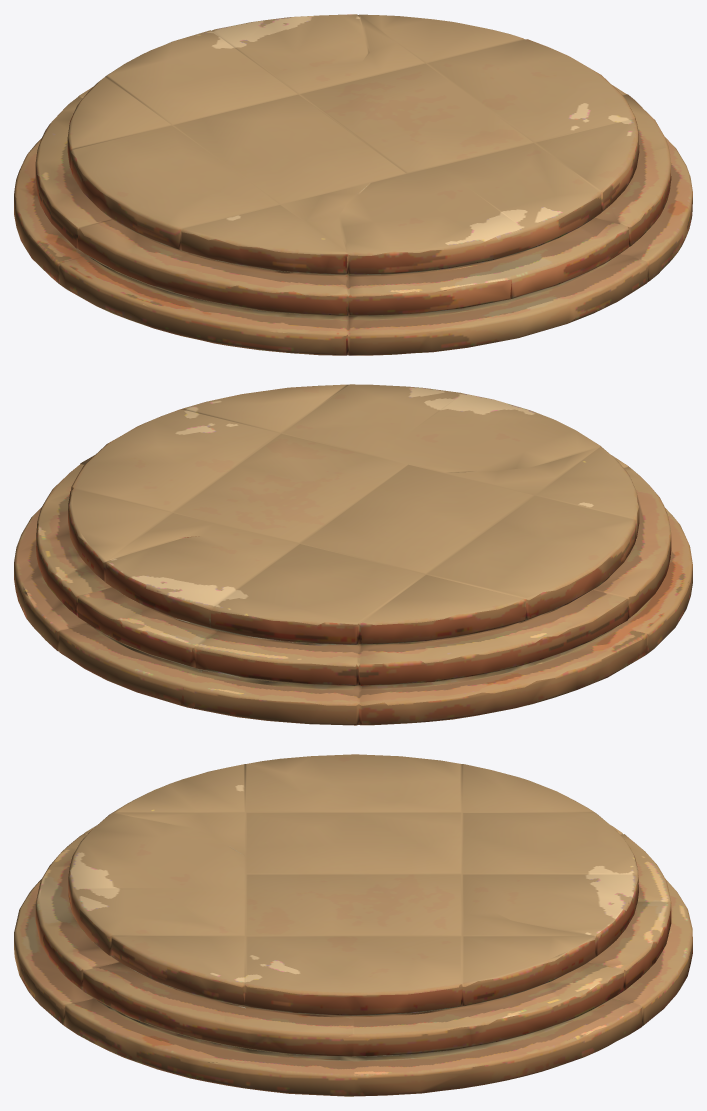
The model's file is Podium.fbx.
The picture shows the model from 3 angles, top to bottom: view 1: azimuth 30°, elevation 25°; view 2: azimuth 150°, elevation 25°; view 3: azimuth 270°, elevation 25°; orthographic projection.
Parts seen in each view (by area): view 1: Podium; view 2: Podium; view 3: Podium.
Part boxes in pixels (bbox=[...]): Podium: bbox=[14, 14, 692, 355]; Podium: bbox=[14, 384, 692, 725]; Podium: bbox=[14, 754, 692, 1096].
Bounding box in the file's own units: 5 × 0.6534 × 4.99.
1 material, 1 textured.
